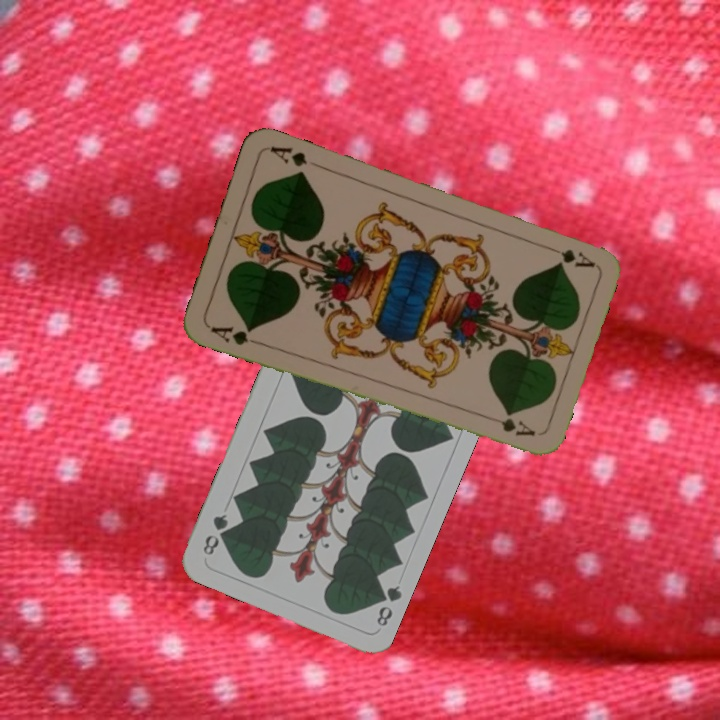G8: (370, 581, 404, 629)
GA: (540, 241, 597, 270), (206, 322, 264, 348)
